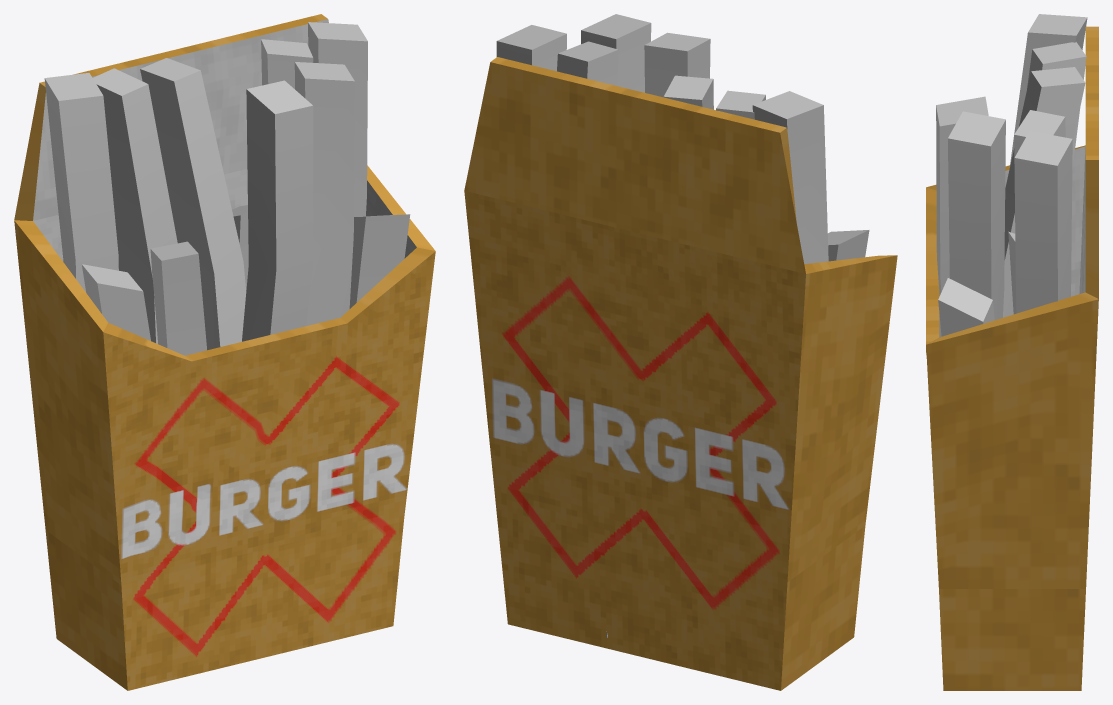
The model's file is FriesHolder.fbx.
3 views of the same model, side by side, from view 1: azimuth 30°, elevation 25°; view 2: azimuth 150°, elevation 25°; view 3: azimuth 270°, elevation 25° (orthographic). The views are drawn at different scales.
Parts seen in each view (by area): view 1: FriesHolder, FriesInHolder; view 2: FriesHolder, FriesInHolder; view 3: FriesHolder, FriesInHolder.
Boxes of the visible parts, x1,y1,x2,y2 form: FriesHolder: [14, 14, 435, 690]; FriesInHolder: [44, 22, 410, 355]; FriesHolder: [464, 57, 897, 690]; FriesInHolder: [496, 14, 869, 637]; FriesHolder: [926, 26, 1098, 690]; FriesInHolder: [936, 14, 1087, 336].
Bounding box in the file's own units: 14.5 × 23.45 × 6.73.
